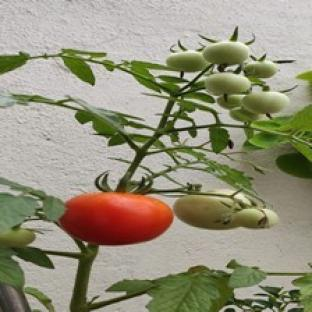Tomato: (59, 193, 172, 245), (173, 190, 250, 229), (202, 41, 250, 65), (243, 91, 289, 114), (205, 73, 250, 94), (166, 51, 208, 72), (236, 208, 278, 228), (0, 228, 36, 247), (244, 60, 278, 77), (216, 95, 245, 110), (230, 108, 261, 122)
